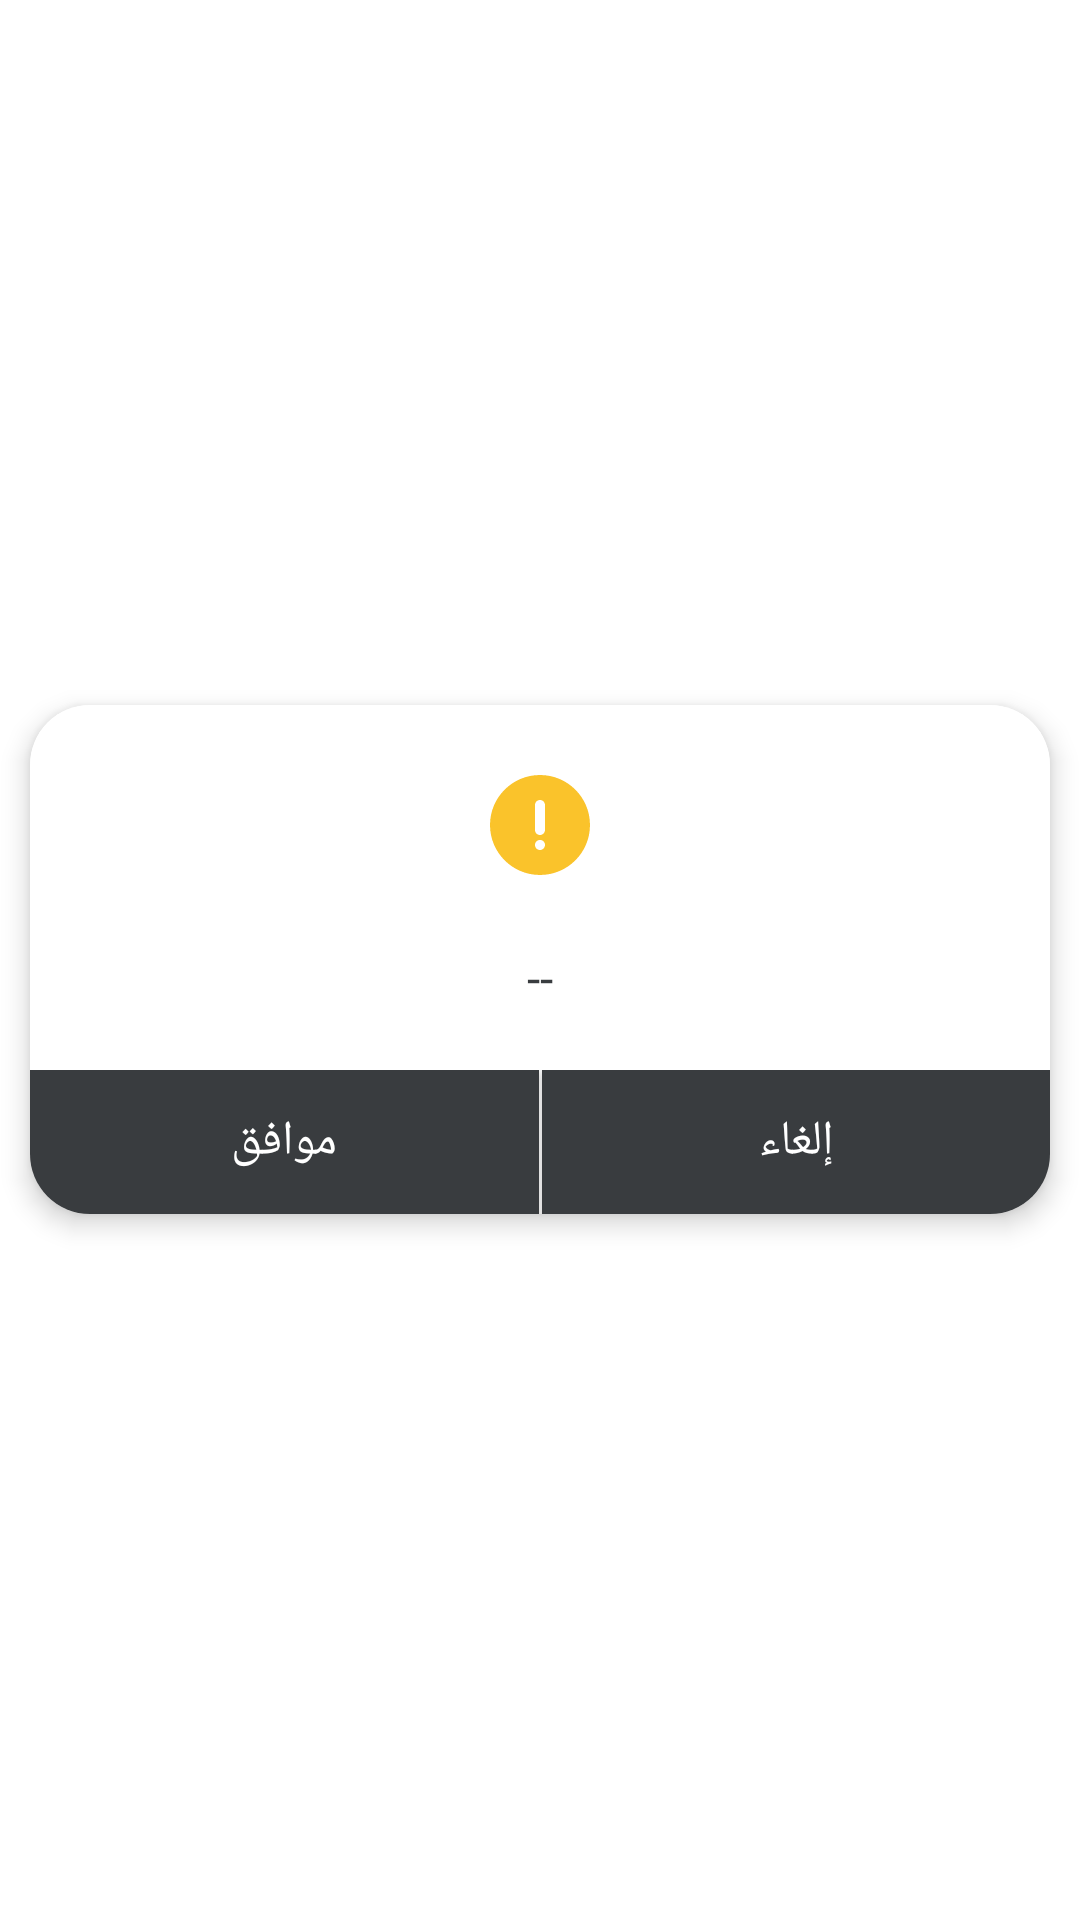

Screen size 1080 x 1920. Icon name, then its box in pixels as [left=x1, top=y1, right=x2, bottom=y2]:
alert: [left=490, top=775, right=590, bottom=875]
